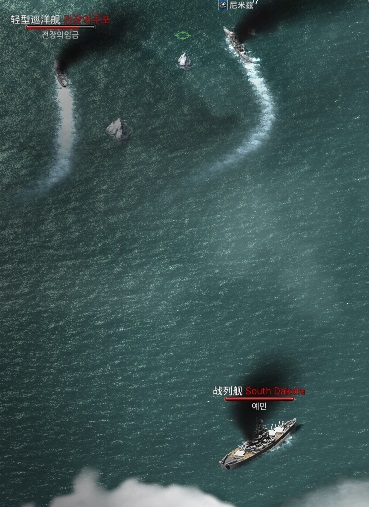ship: (221, 416, 299, 471), (226, 28, 251, 62), (51, 58, 71, 90)
